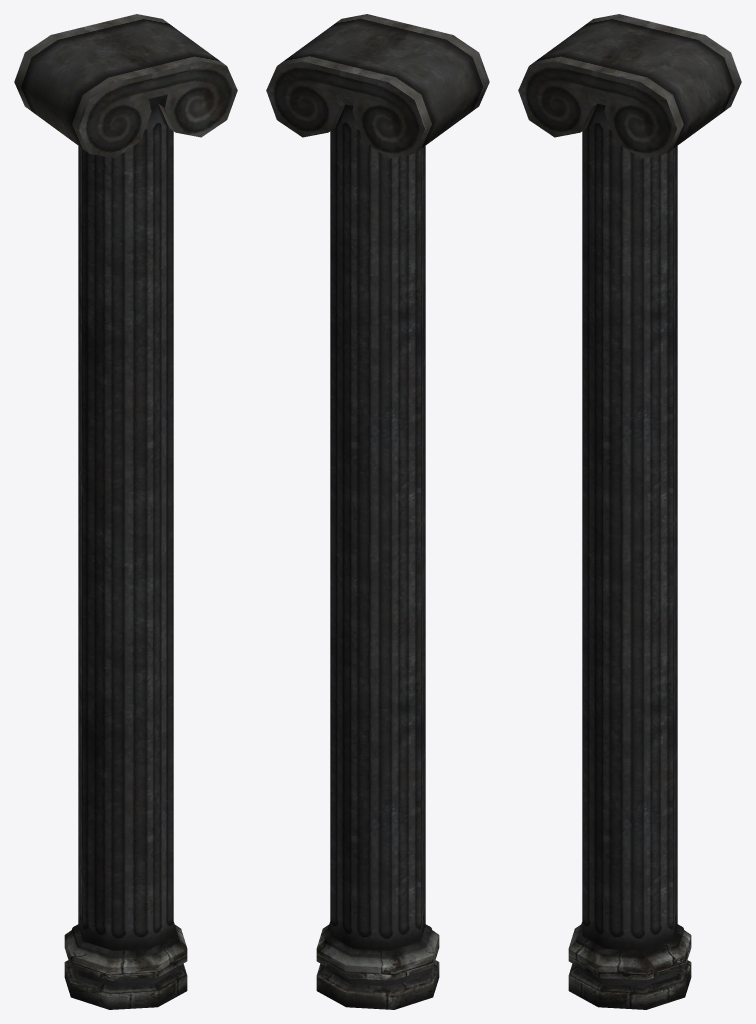
The model's file is roman_tall.dae.
The picture shows the model from 3 angles, left to right: view 1: azimuth 30°, elevation 25°; view 2: azimuth 150°, elevation 25°; view 3: azimuth 330°, elevation 25°; orthographic projection.
Visible parts, largest first — view 1: polySurface4; view 2: polySurface4; view 3: polySurface4.
Part boxes in pixels (bbox=[...]): polySurface4: bbox=[14, 14, 237, 1009]; polySurface4: bbox=[266, 14, 489, 1009]; polySurface4: bbox=[518, 14, 741, 1009].
Size of what is drawn, in the model's own units: 1.42 by 8 by 0.9988.
